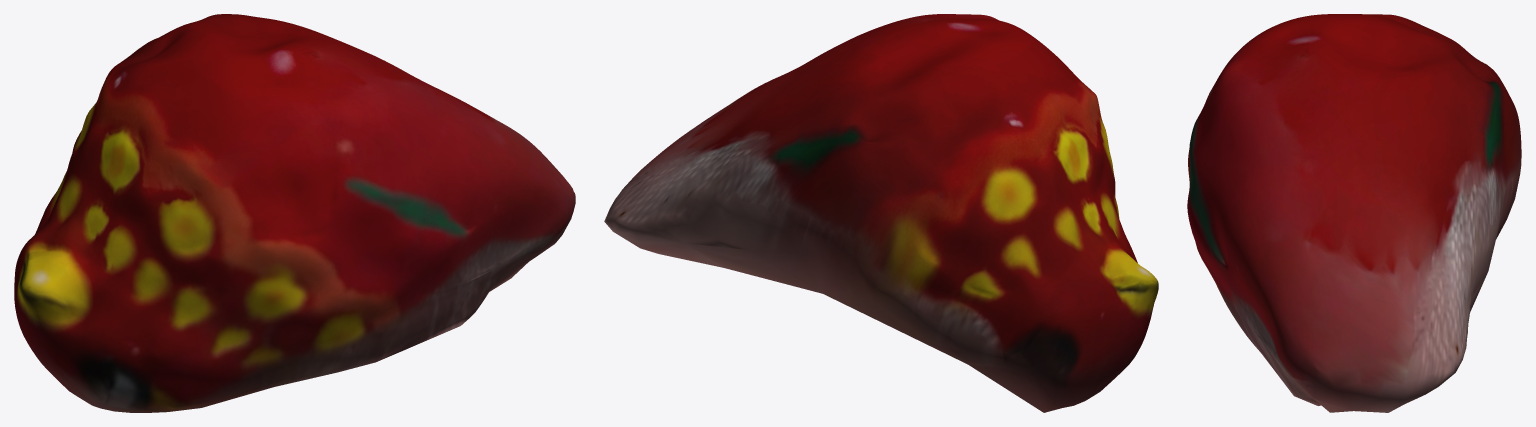
3 views of the same model, side by side, from view 1: azimuth 30°, elevation 25°; view 2: azimuth 150°, elevation 25°; view 3: azimuth 270°, elevation 25° (orthographic). The views are drawn at different scales.
Size of the model in its own units: 0.3283 by 0.1969 by 0.19.
Materials: 1 (1 with a texture image).
